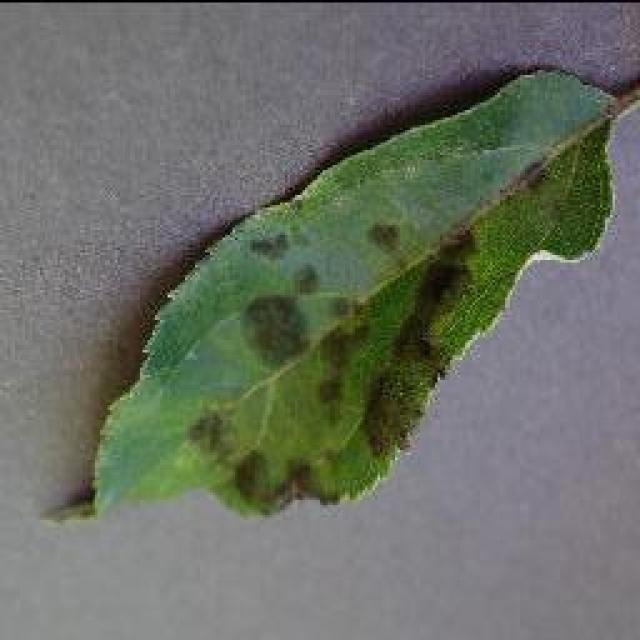apple scab disease: (55, 57, 637, 525)
